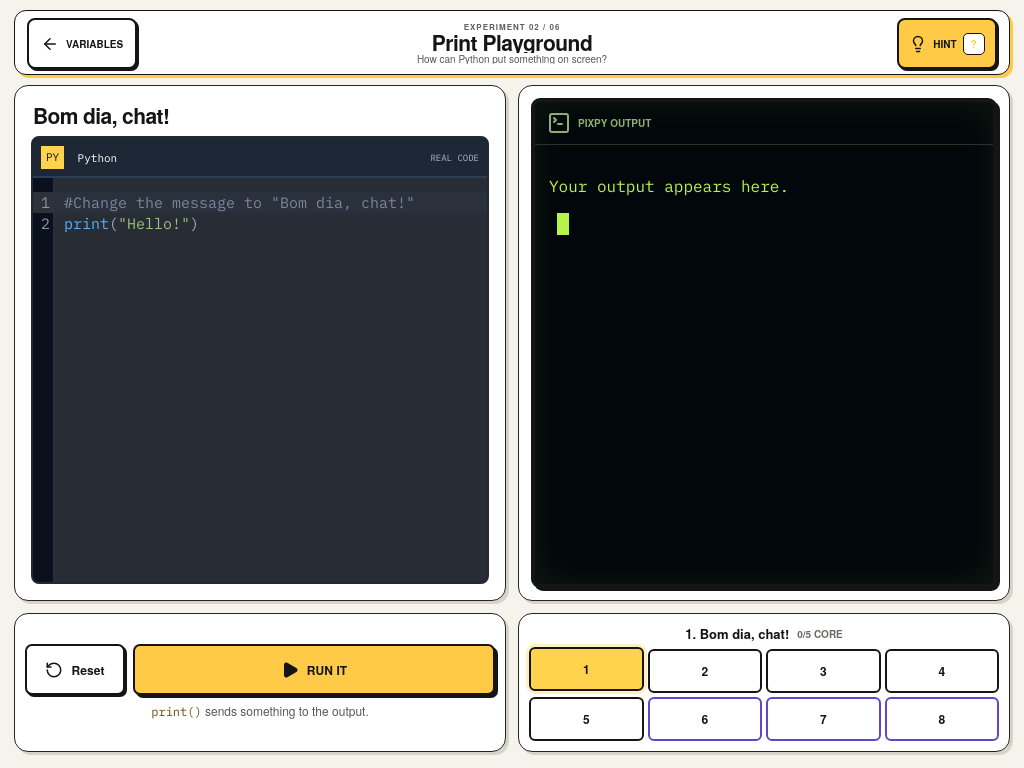
Test case: Print Playground screen › keeps ordinary console output when a run does not qualify for a reward
Click the button "RUN IT" at (314, 670), box [133, 644, 495, 695]
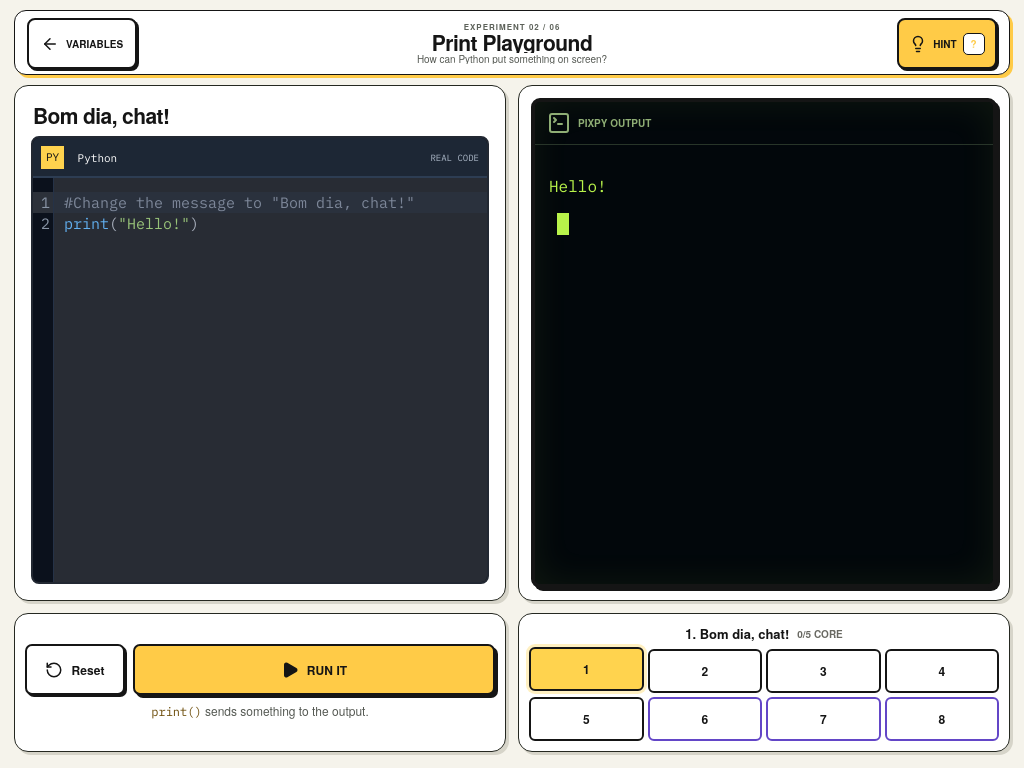
Now the text "Hello!" is shown, box [549, 176, 607, 196]
